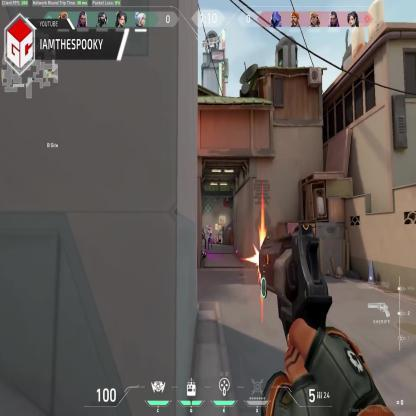enemy: (200, 226, 206, 250), (207, 224, 212, 251)
enemy_head: (202, 226, 204, 229), (209, 225, 210, 230)
